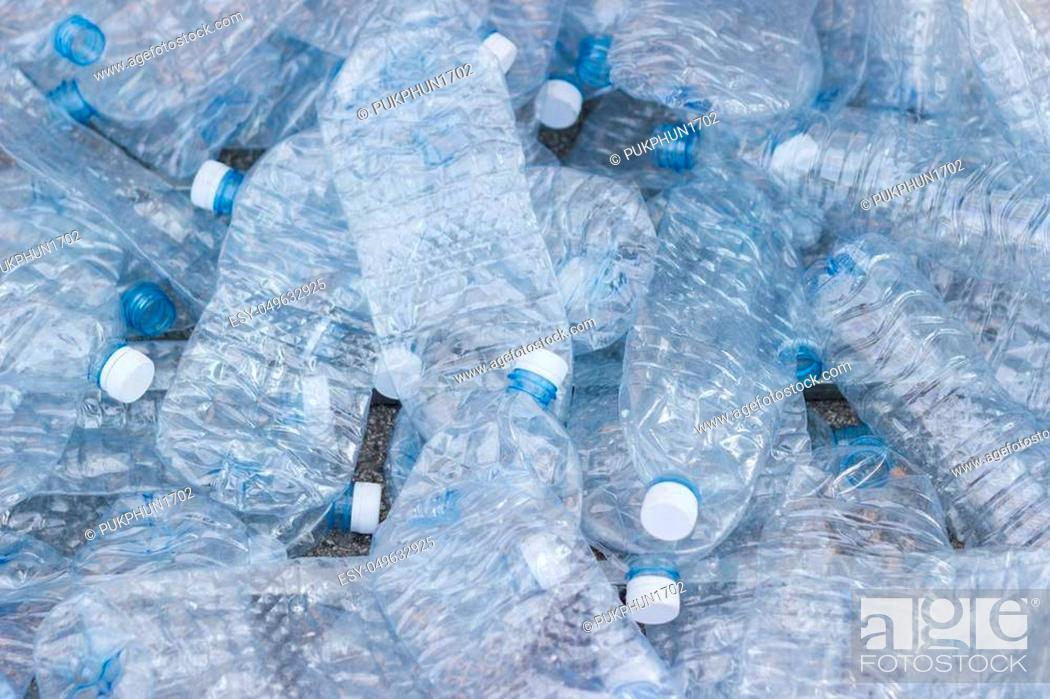plastic: (323, 2, 577, 516), (714, 387, 1049, 698), (571, 162, 820, 561), (769, 49, 1049, 393), (159, 131, 373, 552), (805, 234, 1049, 546), (0, 0, 372, 183), (537, 0, 823, 191), (30, 498, 284, 698), (813, 0, 1049, 145), (251, 552, 426, 698)
